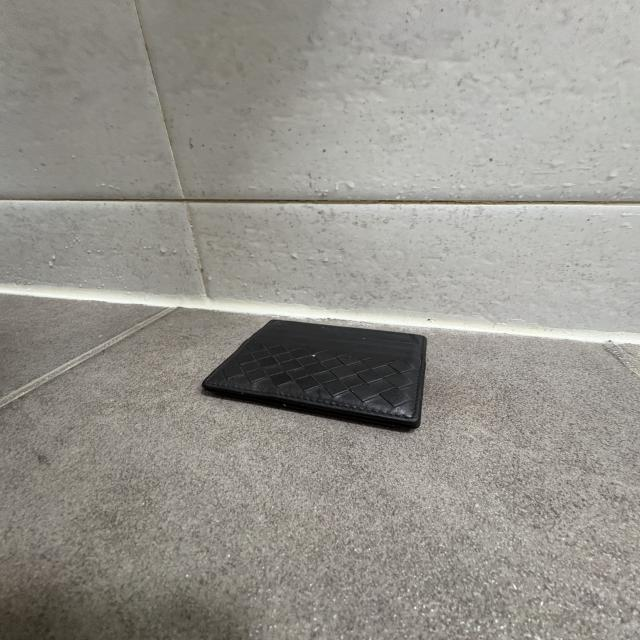wallet: (203, 317, 430, 433)
